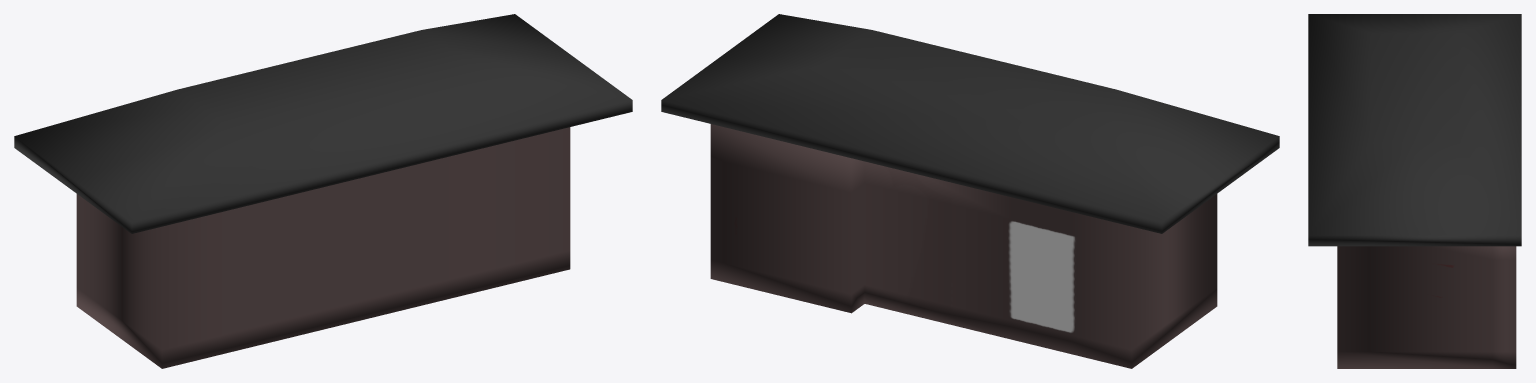
File: house01.fbx
The picture shows the model from 3 angles, left to right: view 1: azimuth 30°, elevation 25°; view 2: azimuth 150°, elevation 25°; view 3: azimuth 270°, elevation 25°; orthographic projection. The views are drawn at different scales.
Visible parts, largest first — view 1: Cube; view 2: Cube; view 3: Cube.
Boxes of the visible parts, bbox=[...] form: Cube: bbox=[14, 14, 632, 368]; Cube: bbox=[661, 14, 1279, 368]; Cube: bbox=[1308, 14, 1521, 368].
Bounding box in the file's own units: 6.76 × 2.71 × 2.75.
1 material, 1 textured.
